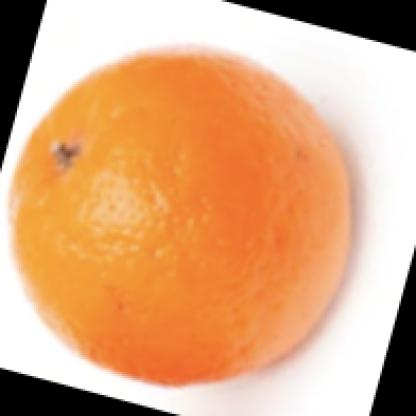fresh: (9, 47, 348, 388)
